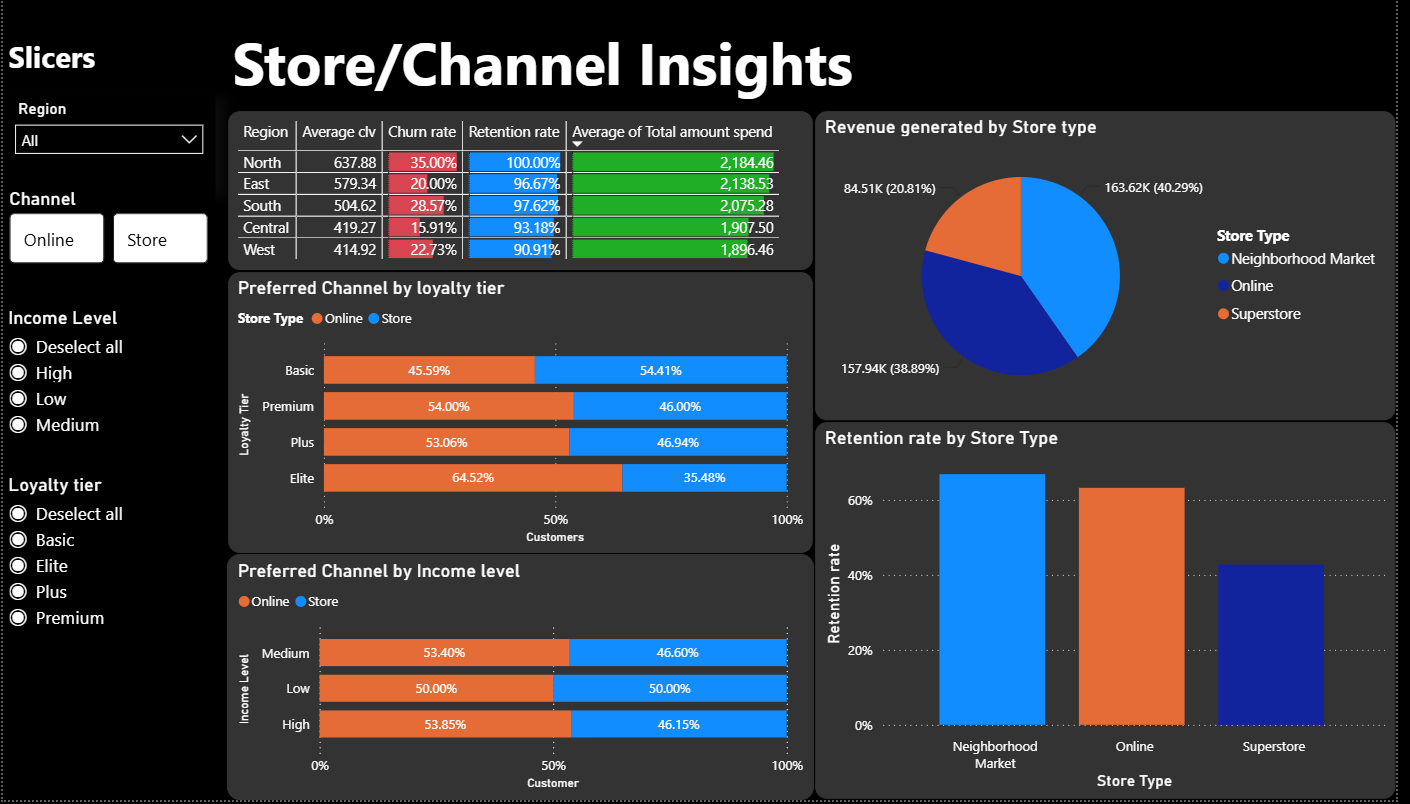

Layout of this report page (visuals, bound fields, positions):
{"tool":"powerbi","page":{"name":"Store/Channel Insights","canvas":[1280,720],"ordinal":2},"visuals":[{"type":"textbox","box":[205.7,0,1069.9,86.3],"z":0},{"type":"slicer","fields":{"Values":["Customer_Demographics.Region"]},"box":[0,70.6,194.5,85.7],"z":1000},{"type":"textbox","box":[0,13.8,194.7,56.9],"z":2000},{"type":"advancedSlicerVisual","title":"Channel","fields":{"Values":["Customer_Demographics.Preferred_Channel"]},"box":[0,156.2,194.5,77.6],"z":3000},{"type":"listSlicer","title":"Income Level","fields":{"Values":["Customer_Demographics.Income_Level"]},"box":[0,267,195,226],"z":4000},{"type":"listSlicer","title":"Loyalty tier","fields":{"Values":["Loyalty_Program.Loyalty_Tier"]},"box":[0,421,195,226],"z":5000},{"type":"pivotTable","fields":{"Rows":["Customer_Demographics.Region"],"Values":["All measures.average clv","All measures.Churn rate","All measures.Retention rate","Avg(Customer_Demographics.Total amount spend)"]},"box":[206,86,539,148],"z":6000},{"type":"pieChart","title":"Revenue generated by Store type","fields":{"Category":["Store_Locations.Store_Type"],"Y":["Sum(Customer_Transactions.Amount)"]},"box":[745,86,535,286],"z":7000},{"type":"hundredPercentStackedBarChart","title":"Preferred Channel by loyalty tier","fields":{"Category":["Loyalty_Program.Loyalty_Tier"],"Y":["Count(Customer_Transactions.Customer_ID)"],"Series":["Customer_Demographics.Preferred_Channel"]},"box":[206,234,539,260],"z":8000},{"type":"clusteredColumnChart","title":"Retention rate by Store Type","fields":{"Category":["Store_Locations.Store_Type"],"Y":["All measures.Retention rate"]},"box":[745,372,535,348],"z":9000},{"type":"hundredPercentStackedBarChart","title":"Preferred Channel by Income level","fields":{"Category":["Customer_Demographics.Income_Level"],"Y":["Count(Customer_Transactions.Customer_ID)"],"Series":["Customer_Demographics.Preferred_Channel"]},"box":[206,494,539,226],"z":10000}]}

Visuals, with their boxes in screenshot pixels (x1, y1, x2, y2), scaled from the page's 1280x720 canvas onto the 1410x804 screenshot:
textbox: locate(227, 0, 1405, 96)
slicer - Customer_Demographics.Region: locate(0, 79, 214, 175)
textbox: locate(0, 15, 214, 79)
"Channel" advancedSlicerVisual: locate(0, 174, 214, 261)
"Income Level" listSlicer: locate(0, 298, 215, 551)
"Loyalty tier" listSlicer: locate(0, 470, 215, 722)
pivotTable - Customer_Demographics.Region x All measures.average clv: locate(227, 96, 821, 261)
"Revenue generated by Store type" pieChart: locate(821, 96, 1409, 415)
"Preferred Channel by loyalty tier" hundredPercentStackedBarChart: locate(227, 261, 821, 552)
"Retention rate by Store Type" clusteredColumnChart: locate(821, 415, 1409, 803)
"Preferred Channel by Income level" hundredPercentStackedBarChart: locate(227, 552, 821, 803)
